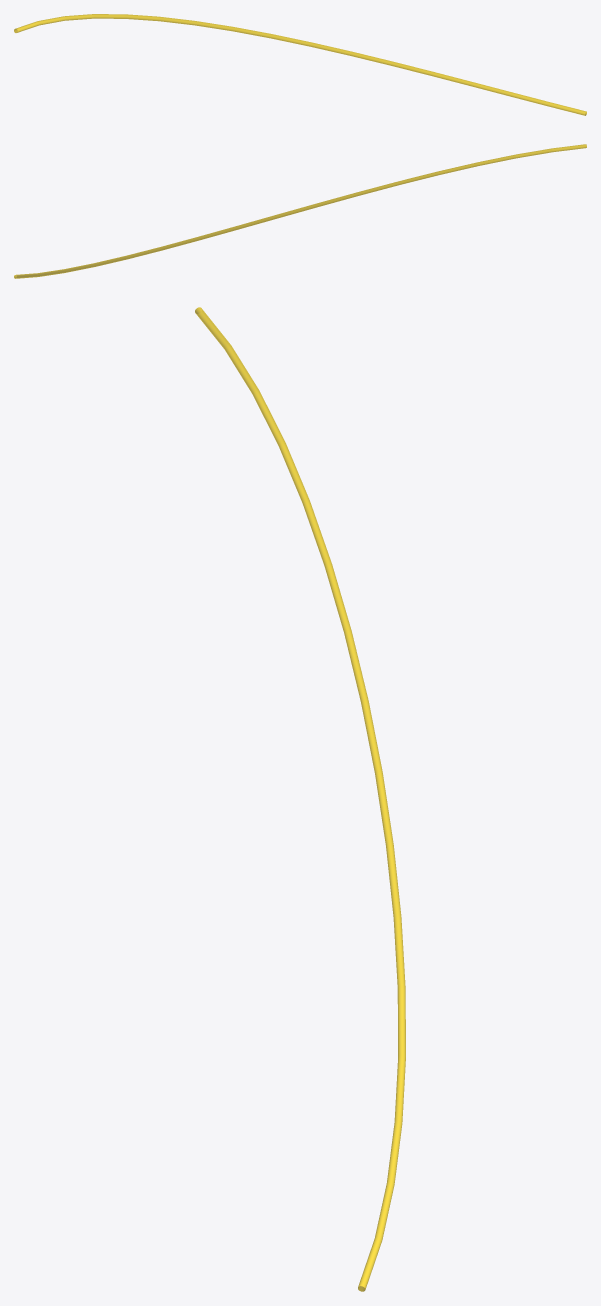
The model's file is Event_17758602_track_27.fbx.
3 views of the same model, one above another, from view 1: azimuth 30°, elevation 25°; view 2: azimuth 150°, elevation 25°; view 3: azimuth 270°, elevation 25° (orthographic). The views are drawn at different scales.
Parts seen in each view (by area): view 1: Model; view 2: Model; view 3: Model.
Part boxes in pixels (x1,y1,x2,y2): Model: (14,14,586,115); Model: (14,144,586,278); Model: (195,307,405,1291).
Bounding box in the file's own units: 6.18 × 2.59 × 1.06.
